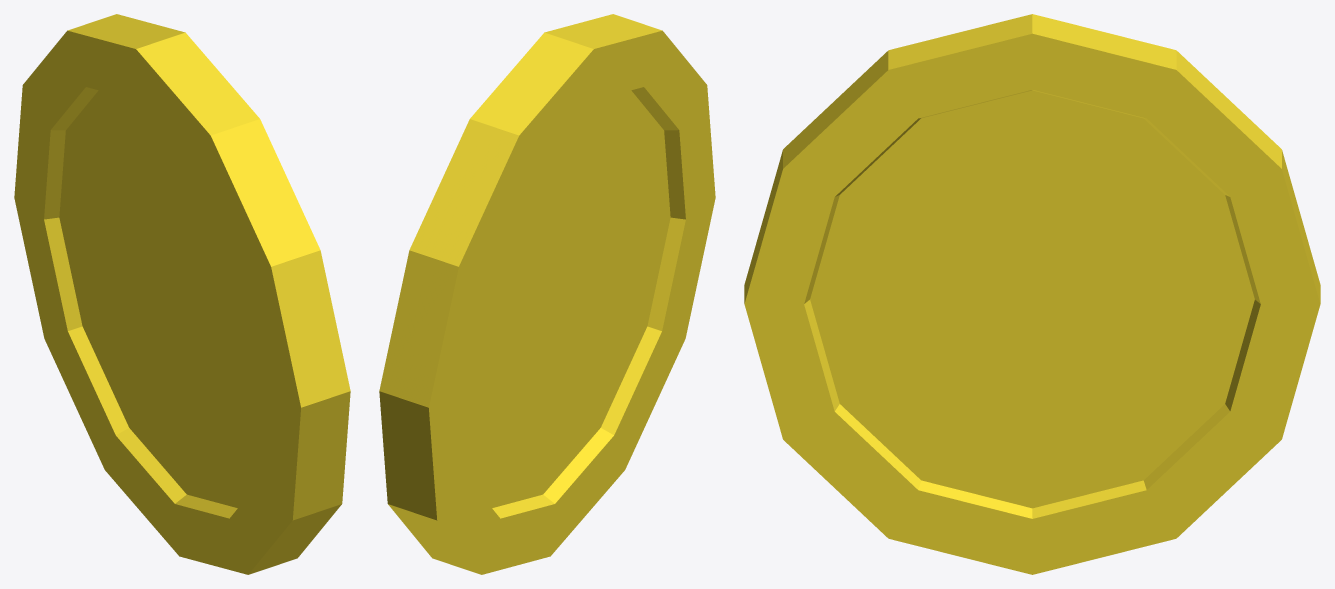
Rendered from moeda.fbx.
3 renders of one model, left to right at view 1: azimuth 30°, elevation 25°; view 2: azimuth 150°, elevation 25°; view 3: azimuth 270°, elevation 25°, orthographic.
Visible parts, largest first — view 1: Cylinder; view 2: Cylinder; view 3: Cylinder.
Part boxes in pixels (left/top/right/bottom): Cylinder: left=14, top=14, right=350, bottom=574; Cylinder: left=379, top=14, right=715, bottom=574; Cylinder: left=744, top=14, right=1320, bottom=574.
Size of the model in its own units: 26.15 by 141 by 140.
